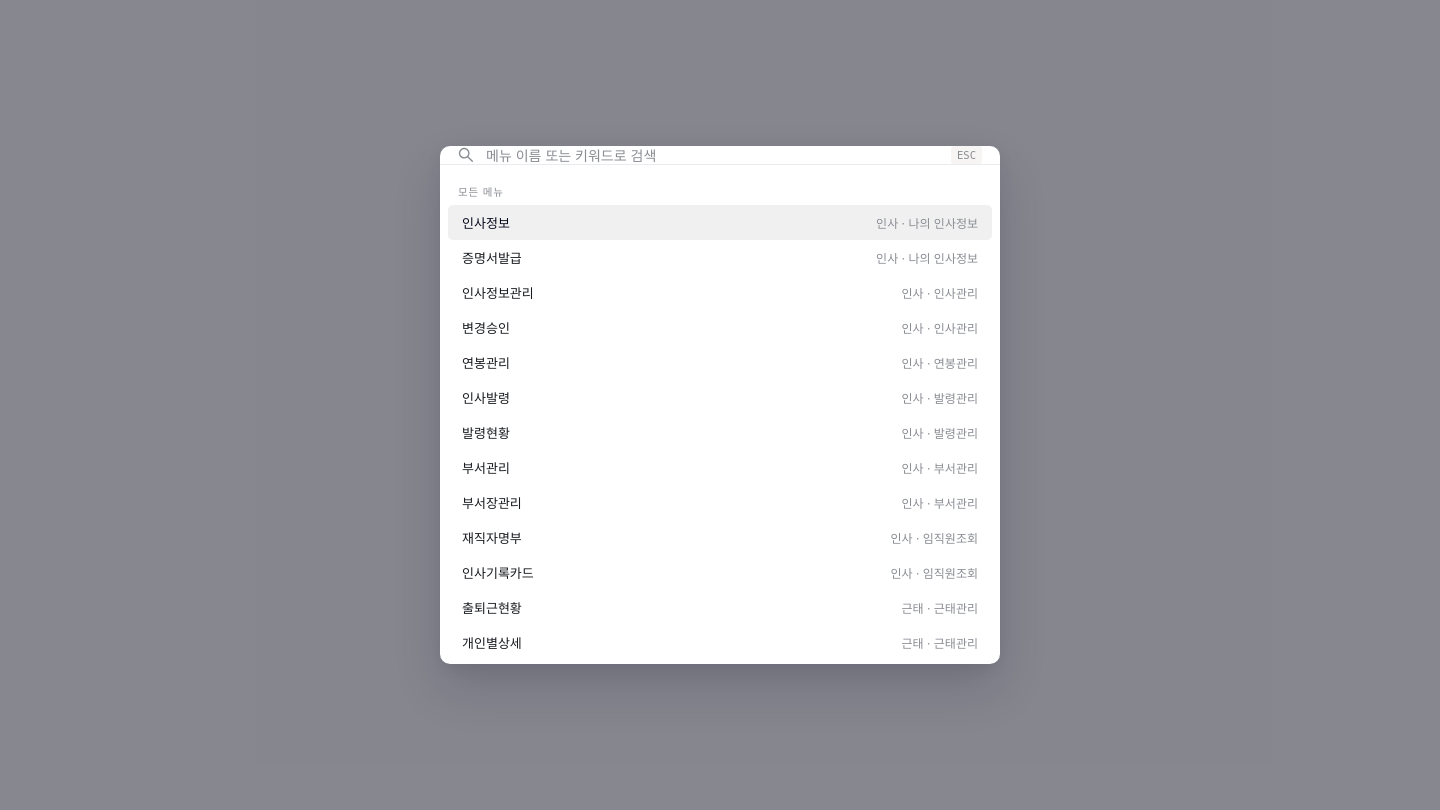
it: menu role filtering › CommandPalette component › SYSTEM_ADMIN이 연봉을 검색하면 둘 다 나온다
Type "연봉" into the field.
click(712, 155); type("연봉")  # box [486,147,939,164]
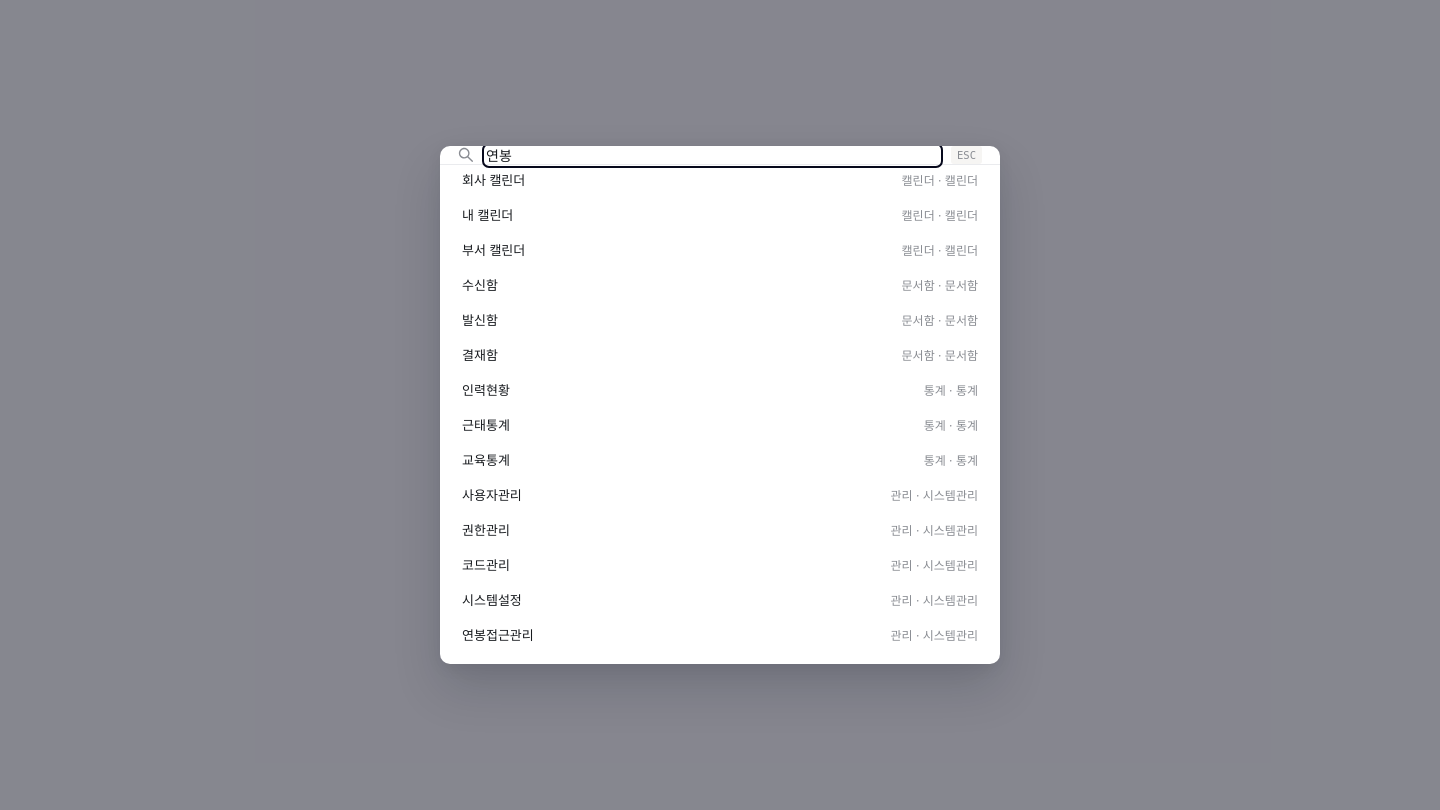
Check: the text "연봉접근관리" is shown, box [462,627,534,643]
